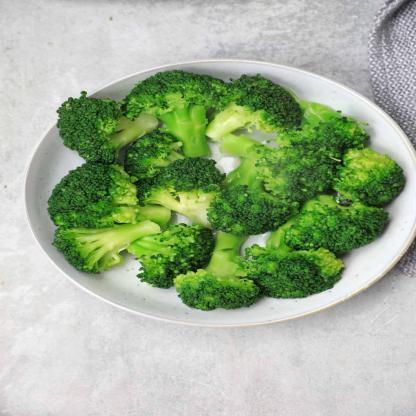broccoli: (47, 70, 411, 312)
